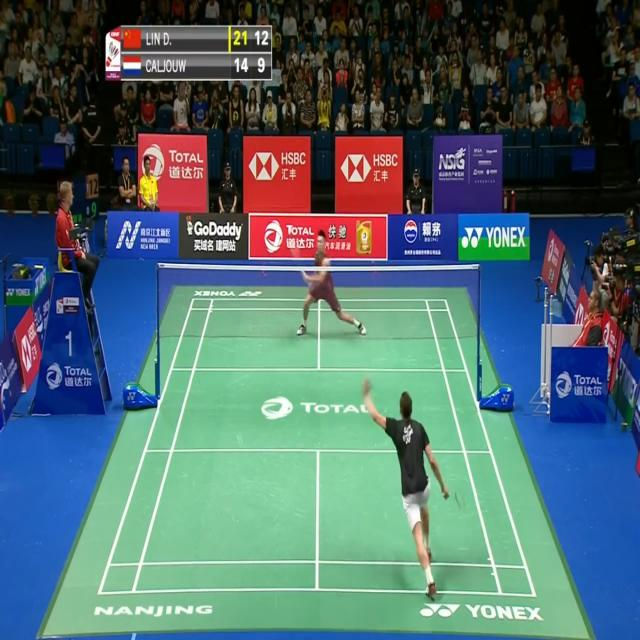Player1: (360, 373, 452, 607)
Player2: (294, 228, 370, 348)
